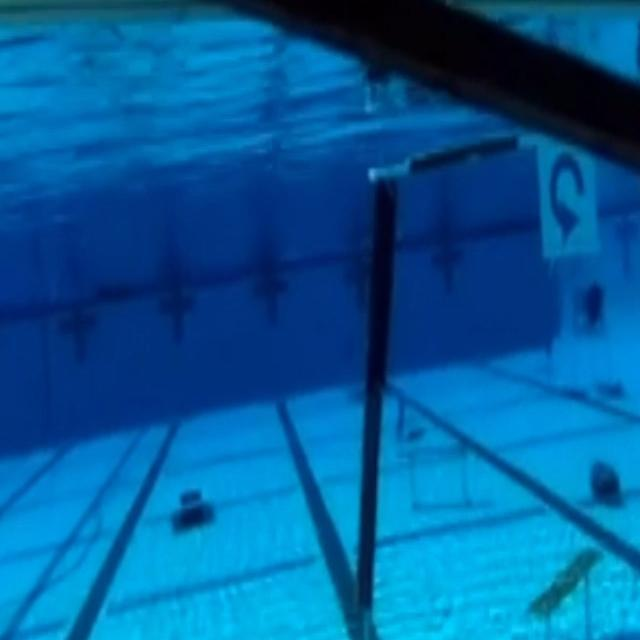Gate: (367, 147, 636, 626)
